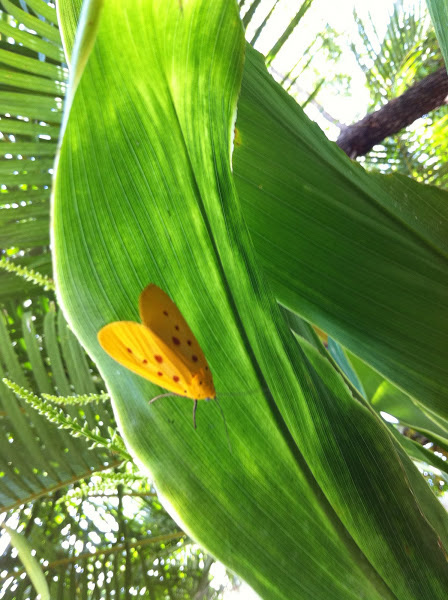Agape chloropyga: (92, 279, 259, 455)
moth: (92, 279, 259, 455)
